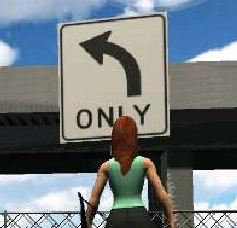arrow_left: (76, 24, 156, 97)
